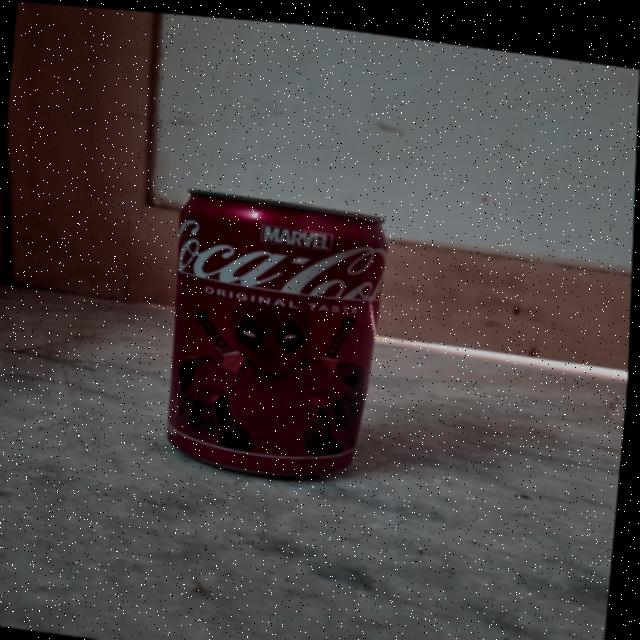Coca Cola - Marvel: (154, 180, 383, 482)
